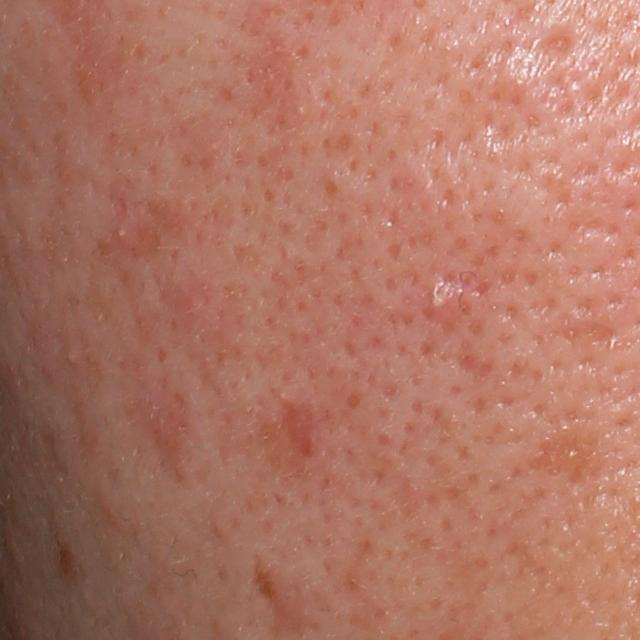atrophic_scar: (524, 434, 609, 492), (275, 395, 317, 466), (453, 336, 498, 383), (532, 25, 576, 59)
comedo: (112, 223, 129, 242)
pustule: (419, 281, 469, 318)
